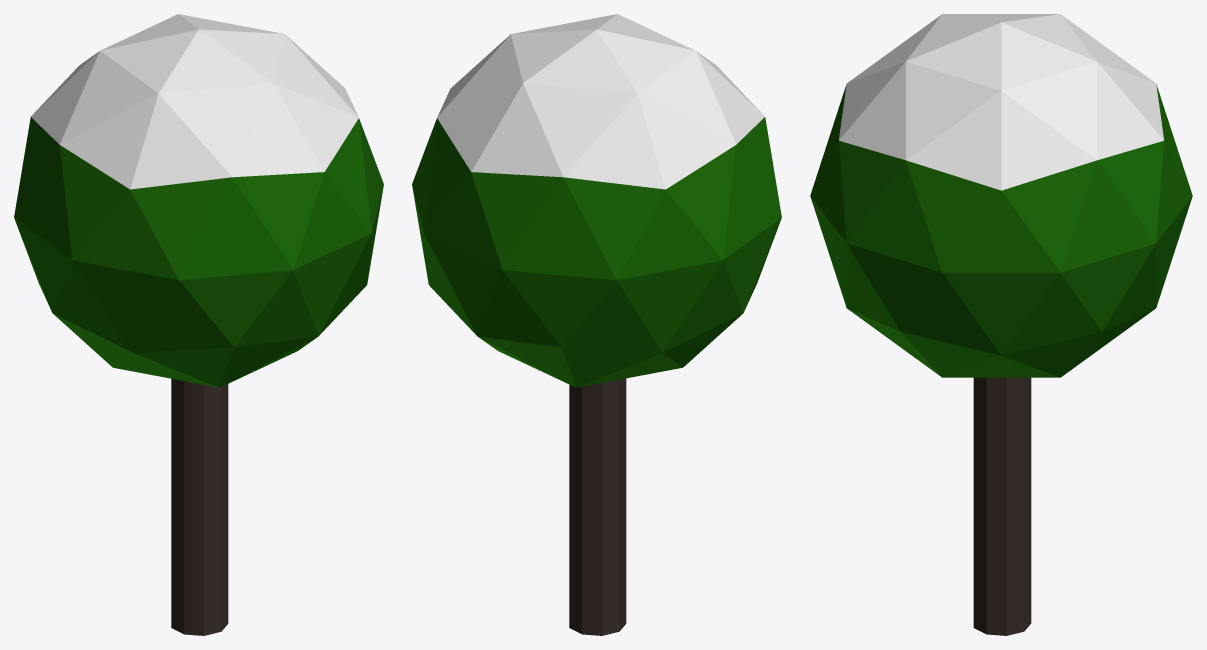
File: Simple_Tree_4_Winter.fbx
The picture shows the model from 3 angles, left to right: view 1: azimuth 30°, elevation 25°; view 2: azimuth 150°, elevation 25°; view 3: azimuth 270°, elevation 25°; orthographic projection.
Visible parts, largest first — view 1: Simple_Tree_4_Winter; view 2: Simple_Tree_4_Winter; view 3: Simple_Tree_4_Winter.
Boxes of the visible parts, x1,y1,x2,y2 form: Simple_Tree_4_Winter: (14, 14, 383, 635); Simple_Tree_4_Winter: (412, 14, 781, 635); Simple_Tree_4_Winter: (810, 14, 1192, 635).
Size of the model in its own units: 307 by 559 by 323.
